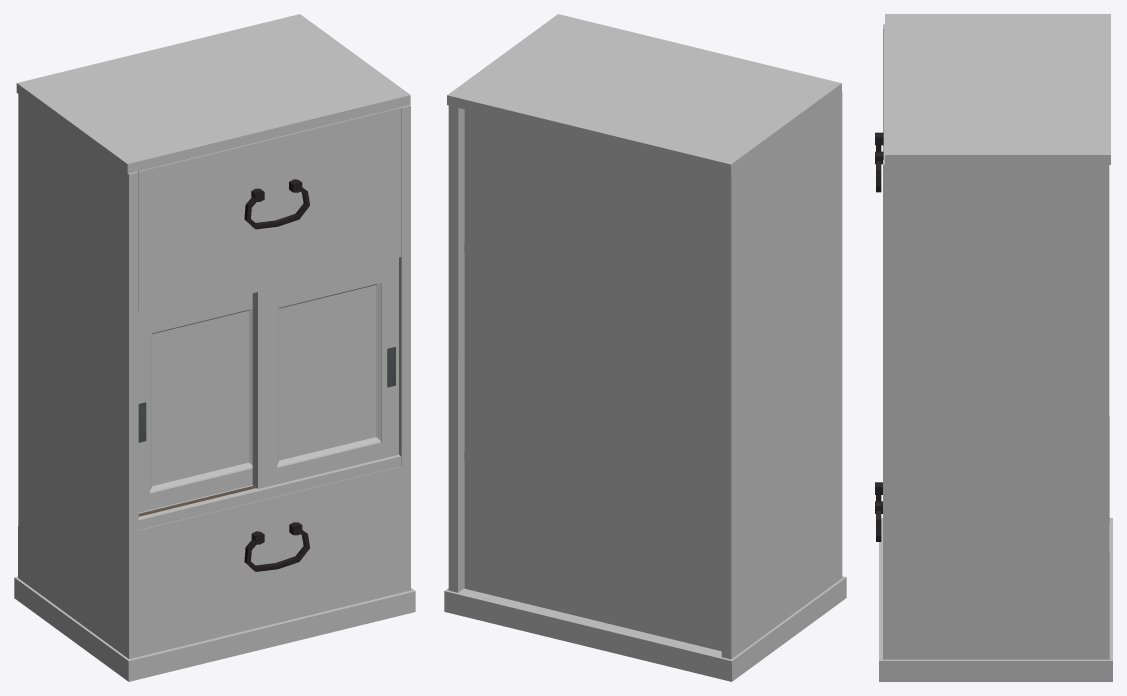
The model's file is jov_chest01a.fbx.
3 views of the same model, side by side, from view 1: azimuth 30°, elevation 25°; view 2: azimuth 150°, elevation 25°; view 3: azimuth 270°, elevation 25° (orthographic). The views are drawn at different scales.
Parts seen in each view (by area): view 1: jov_chest01a; view 2: jov_chest01a; view 3: jov_chest01a.
Part boxes in pixels (<box>): jov_chest01a: <box>14,14,415,681</box>; jov_chest01a: <box>444,14,846,681</box>; jov_chest01a: <box>875,14,1112,681</box>.
Size of the model in its own units: 75.58 by 130 by 53.11.
